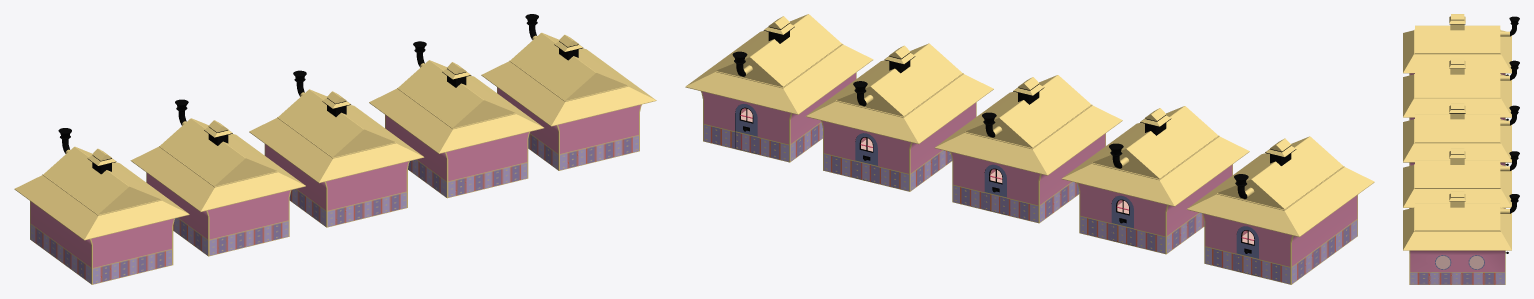
The model's file is CasaHV.obj.
The picture shows the model from 3 angles, left to right: view 1: azimuth 30°, elevation 25°; view 2: azimuth 150°, elevation 25°; view 3: azimuth 270°, elevation 25°; orthographic projection. The views are drawn at different scales.
Parts seen in each view (by area): view 1: CasaHV:Techo_de_la_fachadapasted__group116, CasaHV:Techo_de_la_fachada, CasaHV:Techo_de_la_fachadagroup115, CasaHV:Techo_de_la_fachadapasted__group115, CasaHV:Techo_de_la_fachadapasted__group117, CasaHV:Pared_Fachada_08, CasaHV:Pared_Fachada_06, CasaHV:Pared_Fachada_11, CasaHV:Pared_Fachada_07, CasaHV:Pared_Fachada_03, CasaHV:Pared_Fachada_02group2, CasaHV:Pared_Fachada_02group1 (+3 smaller); view 2: CasaHV:Techo_de_la_fachadapasted__group116, CasaHV:Techo_de_la_fachadagroup115, CasaHV:Techo_de_la_fachadapasted__group117, CasaHV:Techo_de_la_fachada, CasaHV:Techo_de_la_fachadapasted__group115, CasaHV:Pared_Fachada_09, CasaHV:Pared_Fachada_12, CasaHV:Pared_Fachada_05, CasaHV:Pared_Fachada_10, CasaHV:Pared_Fachada_04, CasaHV:Pared_Fachada_02group2, CasaHV:Pared_Fachada_02group1 (+8 smaller); view 3: CasaHV:Techo_de_la_fachadapasted__group115, CasaHV:Techo_de_la_fachadagroup115, CasaHV:Techo_de_la_fachadapasted__group117, CasaHV:Techo_de_la_fachadapasted__group116, CasaHV:Techo_de_la_fachada, CasaHV:pared_fachada_03, CasaHV:pasted__pasted__pCylinder1pasted__group4group7, CasaHV:pasted__pCylinder1group9, CasaHV:Piso_Fachada2.
Boxes of the visible parts, bbox=[...] form: CasaHV:Techo_de_la_fachadapasted__group116: bbox=[130, 99, 305, 211]; CasaHV:Techo_de_la_fachada: bbox=[369, 41, 543, 153]; CasaHV:Techo_de_la_fachadagroup115: bbox=[249, 70, 424, 183]; CasaHV:Techo_de_la_fachadapasted__group115: bbox=[481, 14, 656, 126]; CasaHV:Techo_de_la_fachadapasted__group117: bbox=[14, 128, 189, 240]; CasaHV:Pared_Fachada_08: bbox=[209, 191, 288, 255]; CasaHV:Pared_Fachada_06: bbox=[327, 163, 406, 226]; CasaHV:Pared_Fachada_11: bbox=[93, 219, 171, 283]; CasaHV:Pared_Fachada_07: bbox=[448, 133, 527, 197]; CasaHV:Pared_Fachada_03: bbox=[560, 106, 638, 169]; CasaHV:Pared_Fachada_02group2: bbox=[30, 201, 98, 284]; CasaHV:Pared_Fachada_02group1: bbox=[385, 115, 453, 197]; CasaHV:Techo_de_la_fachadapasted__group116: bbox=[1061, 106, 1249, 206]; CasaHV:Techo_de_la_fachadagroup115: bbox=[934, 75, 1122, 175]; CasaHV:Techo_de_la_fachadapasted__group117: bbox=[1186, 136, 1374, 237]; CasaHV:Techo_de_la_fachada: bbox=[805, 43, 993, 144]; CasaHV:Techo_de_la_fachadapasted__group115: bbox=[685, 14, 873, 114]; CasaHV:Pared_Fachada_09: bbox=[704, 92, 788, 161]; CasaHV:Pared_Fachada_12: bbox=[1205, 215, 1290, 283]; CasaHV:Pared_Fachada_05: bbox=[953, 154, 1038, 222]; CasaHV:Pared_Fachada_10: bbox=[1080, 184, 1165, 253]; CasaHV:Pared_Fachada_04: bbox=[824, 122, 908, 190]; CasaHV:Pared_Fachada_02group2: bbox=[1290, 195, 1357, 284]; CasaHV:Pared_Fachada_02group1: bbox=[904, 102, 976, 191]; CasaHV:Techo_de_la_fachadapasted__group115: bbox=[1403, 191, 1519, 250]; CasaHV:Techo_de_la_fachadagroup115: bbox=[1403, 103, 1519, 162]; CasaHV:Techo_de_la_fachadapasted__group117: bbox=[1403, 14, 1519, 73]; CasaHV:Techo_de_la_fachadapasted__group116: bbox=[1403, 58, 1519, 117]; CasaHV:Techo_de_la_fachada: bbox=[1403, 148, 1519, 207]; CasaHV:pared_fachada_03: bbox=[1409, 250, 1505, 284]; CasaHV:pasted__pasted__pCylinder1pasted__group4group7: bbox=[1469, 256, 1483, 269]; CasaHV:pasted__pCylinder1group9: bbox=[1435, 256, 1450, 269]; CasaHV:Piso_Fachada2: bbox=[1409, 284, 1505, 284].
Bounding box in the file's own units: 89.55 × 15.04 × 20.34.
